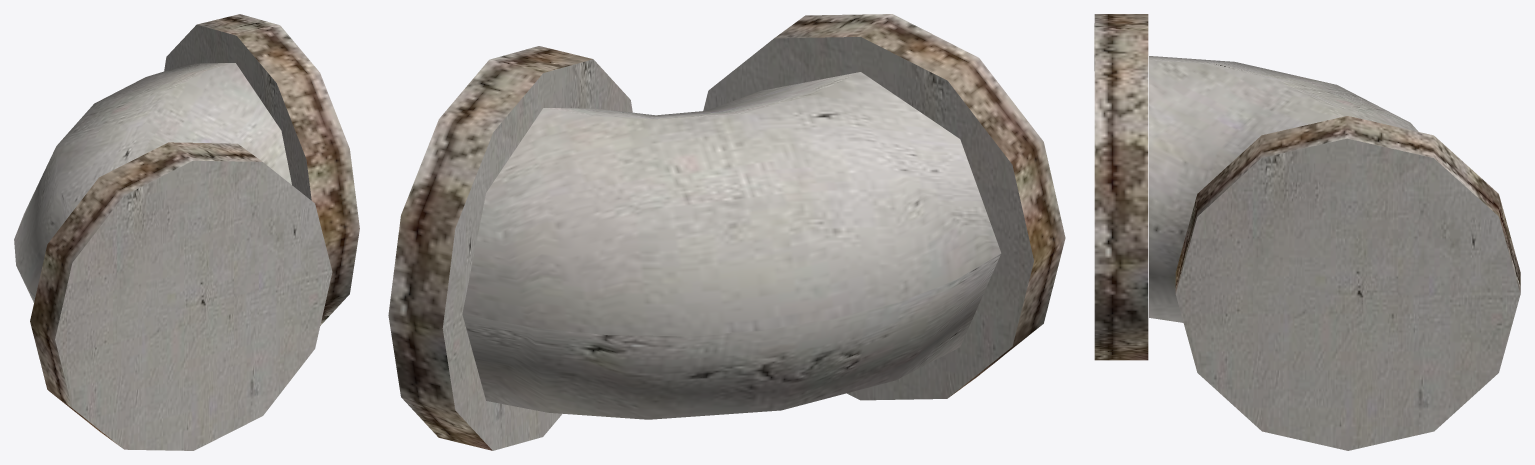
The model's file is pipe03_90degree01.glb.
3 views of the same model, side by side, from view 1: azimuth 30°, elevation 25°; view 2: azimuth 150°, elevation 25°; view 3: azimuth 270°, elevation 25° (orthographic). The views are drawn at different scales.
Parts seen in each view (by area): view 1: 0_pipesystem01a_skin1; view 2: 0_pipesystem01a_skin1; view 3: 0_pipesystem01a_skin1.
Boxes of the visible parts, <box> form: 0_pipesystem01a_skin1: <box>14,14,359,450</box>; 0_pipesystem01a_skin1: <box>388,14,1065,450</box>; 0_pipesystem01a_skin1: <box>1094,14,1520,450</box>.
Size of the model in its own units: 0.7321 by 0.5936 by 0.7325.
Materials: 1 (1 with a texture image).
